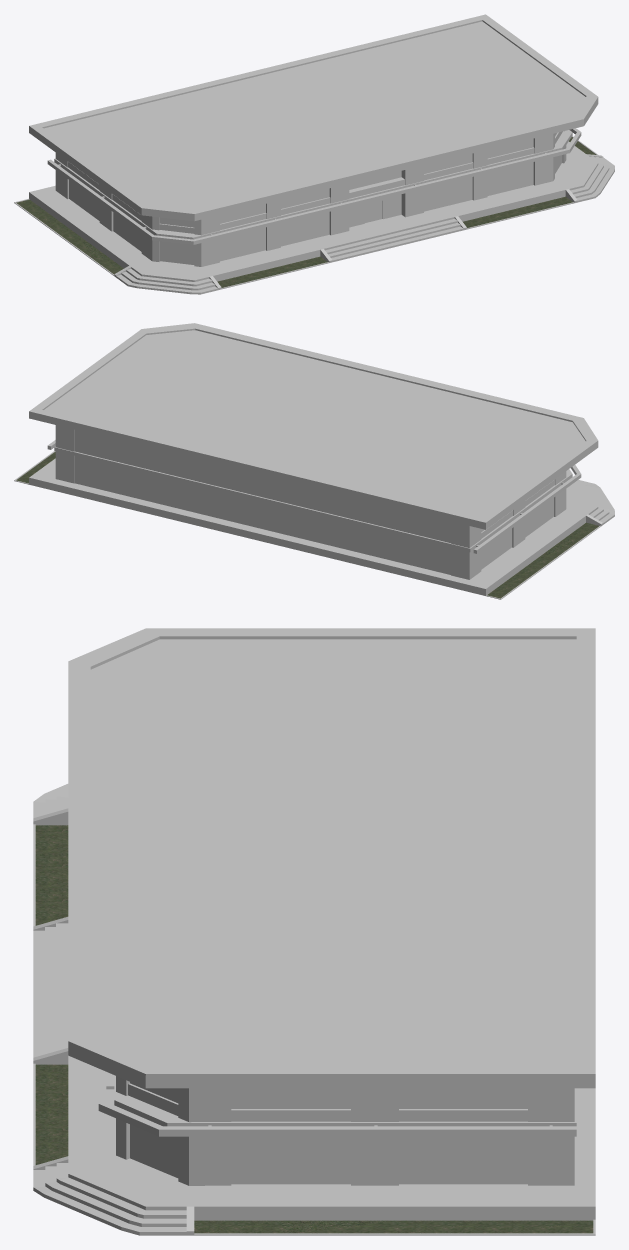
The picture shows the model from 3 angles, top to bottom: view 1: azimuth 30°, elevation 25°; view 2: azimuth 150°, elevation 25°; view 3: azimuth 270°, elevation 25°; orthographic projection. The views are drawn at different scales.
Visible parts, largest first — view 1: DC-05; view 2: DC-05; view 3: DC-05.
Part boxes in pixels (box(x1,y1,x2,y2)): DC-05: box(14, 14, 614, 294); DC-05: box(14, 323, 614, 599); DC-05: box(33, 628, 595, 1235).
Size of what is drawn, in the model's own units: 7200 by 1037 by 3600.
